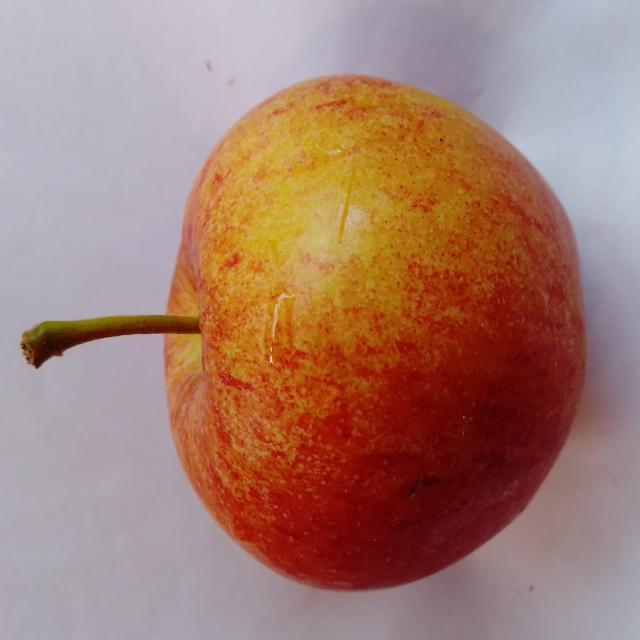Fresh Apple: (165, 111, 575, 586)
